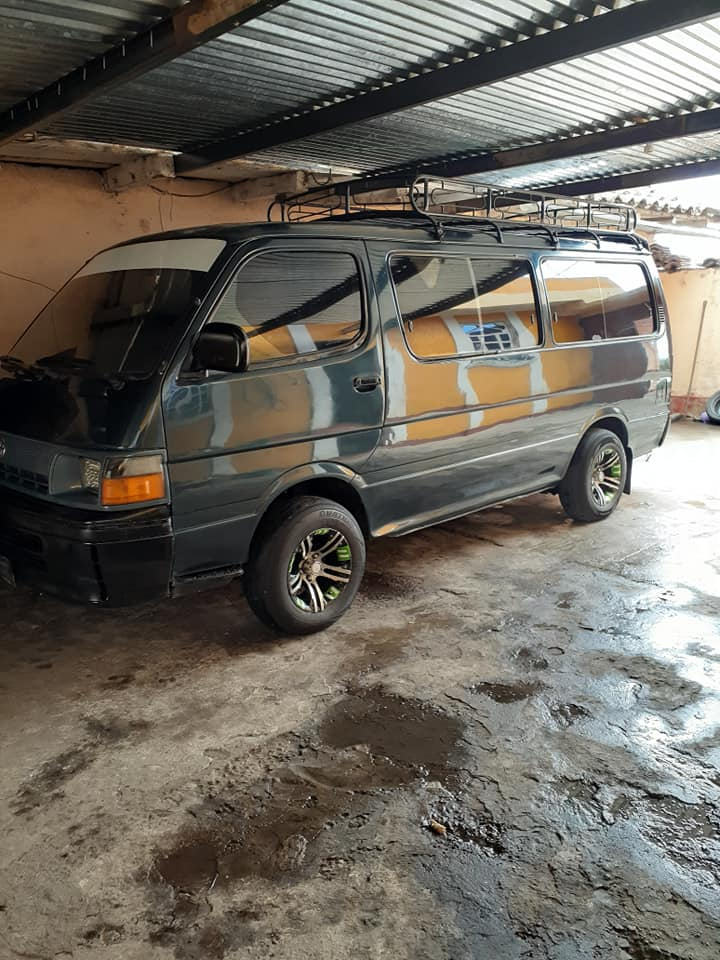bus: (3, 211, 675, 627)
